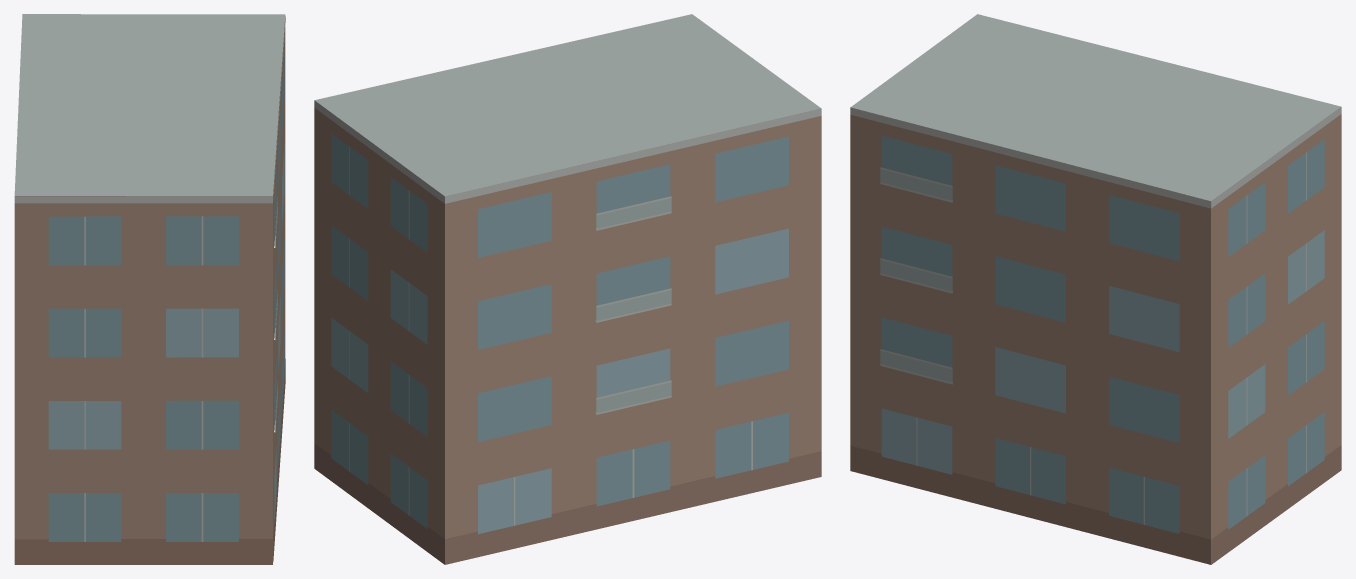
The model's file is survey-upis-32692658.glb.
3 renders of one model, left to right at view 1: azimuth 30°, elevation 25°; view 2: azimuth 150°, elevation 25°; view 3: azimuth 270°, elevation 25°, orthographic.
Visible parts, largest first — view 1: survey-upis-32692658.tmp; view 2: survey-upis-32692658.tmp; view 3: survey-upis-32692658.tmp.
Part boxes in pixels (bbox=[...]): survey-upis-32692658.tmp: bbox=[14, 14, 285, 564]; survey-upis-32692658.tmp: bbox=[314, 14, 821, 564]; survey-upis-32692658.tmp: bbox=[850, 14, 1341, 564].
Size of the model in its own units: 13.49 by 12.2 by 14.94.
